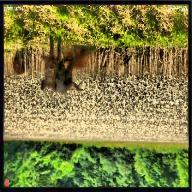boar: (39, 45, 86, 105)
